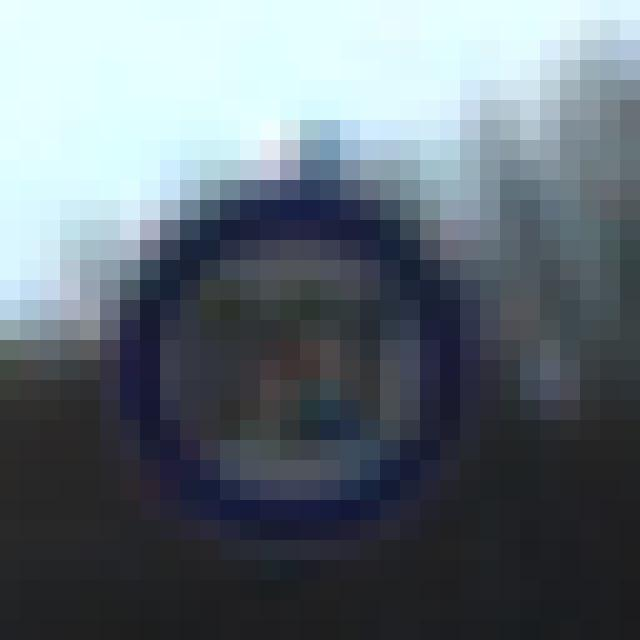SPEED LIMIT 120: (102, 157, 476, 523)
